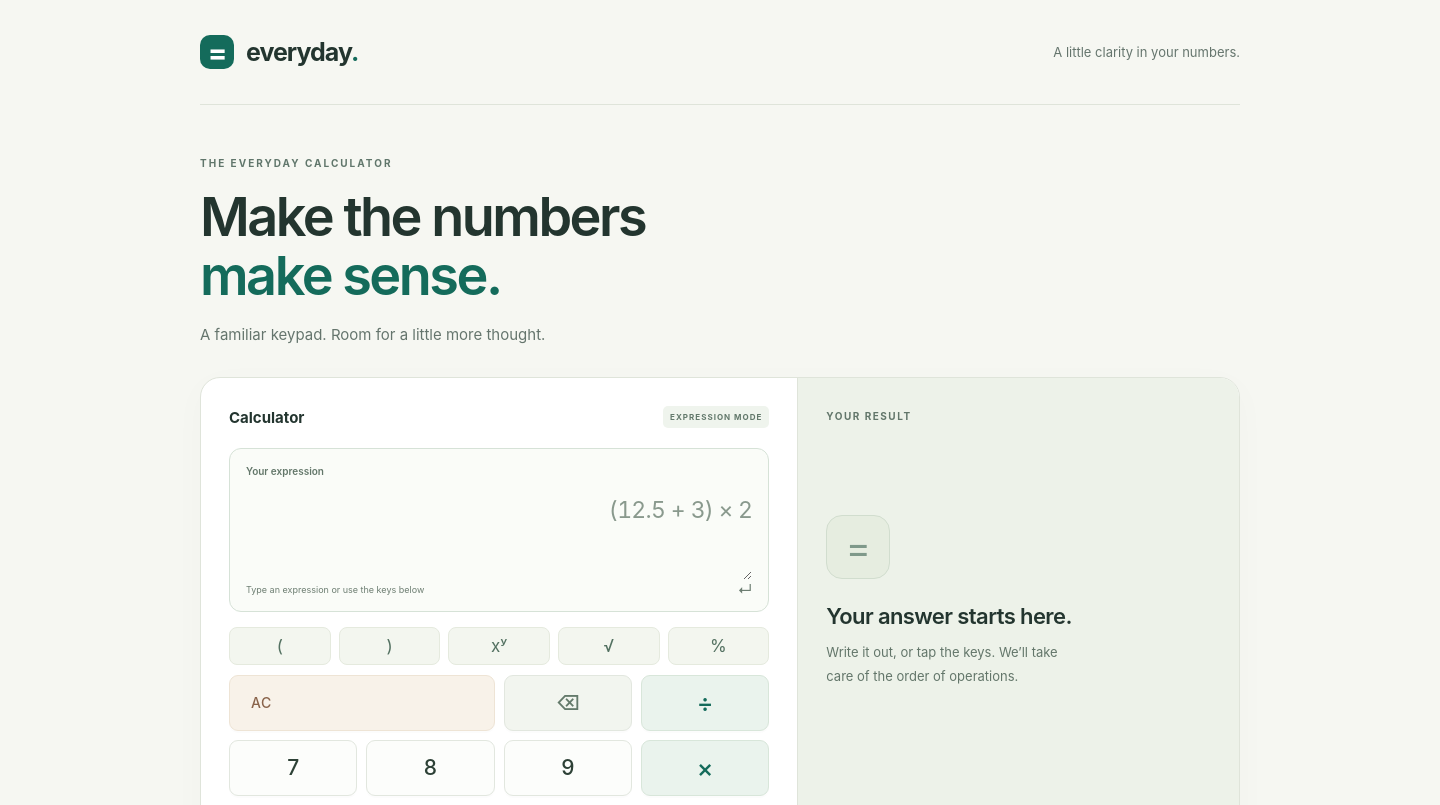
Test: expression calculator › inserts at the caret and replaces a selection
Type "12+3" into the text box labelled "Your expression" at (499, 529), box x1=246 y1=477 x2=752 y2=580
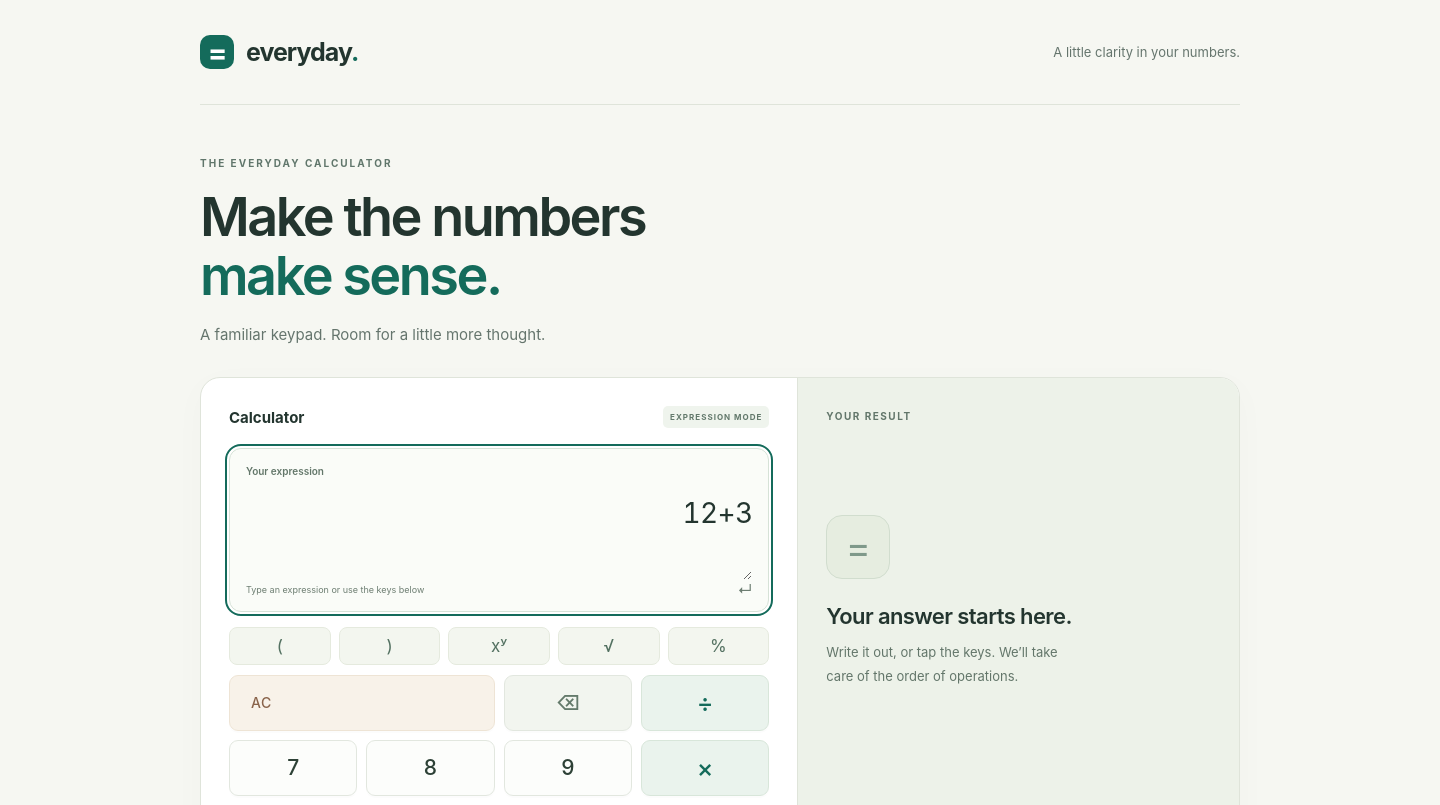
Click the button named "Multiply" at (705, 768), box x1=641 y1=740 x2=769 y2=796
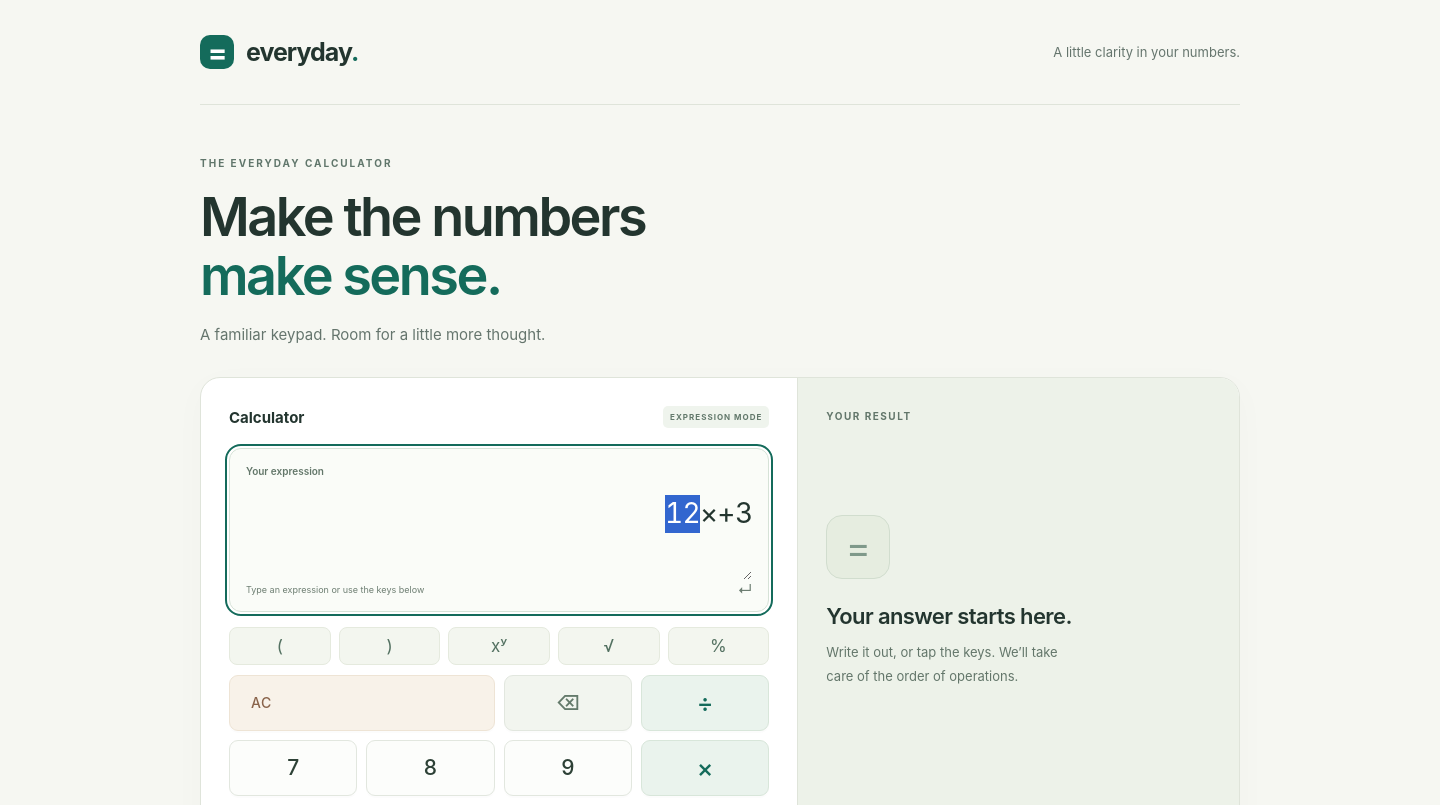
Result: the text box labelled "Your expression" holds "12×+3" at x1=246 y1=477 x2=752 y2=580
Click the button "9" at (568, 768), box x1=504 y1=740 x2=632 y2=796
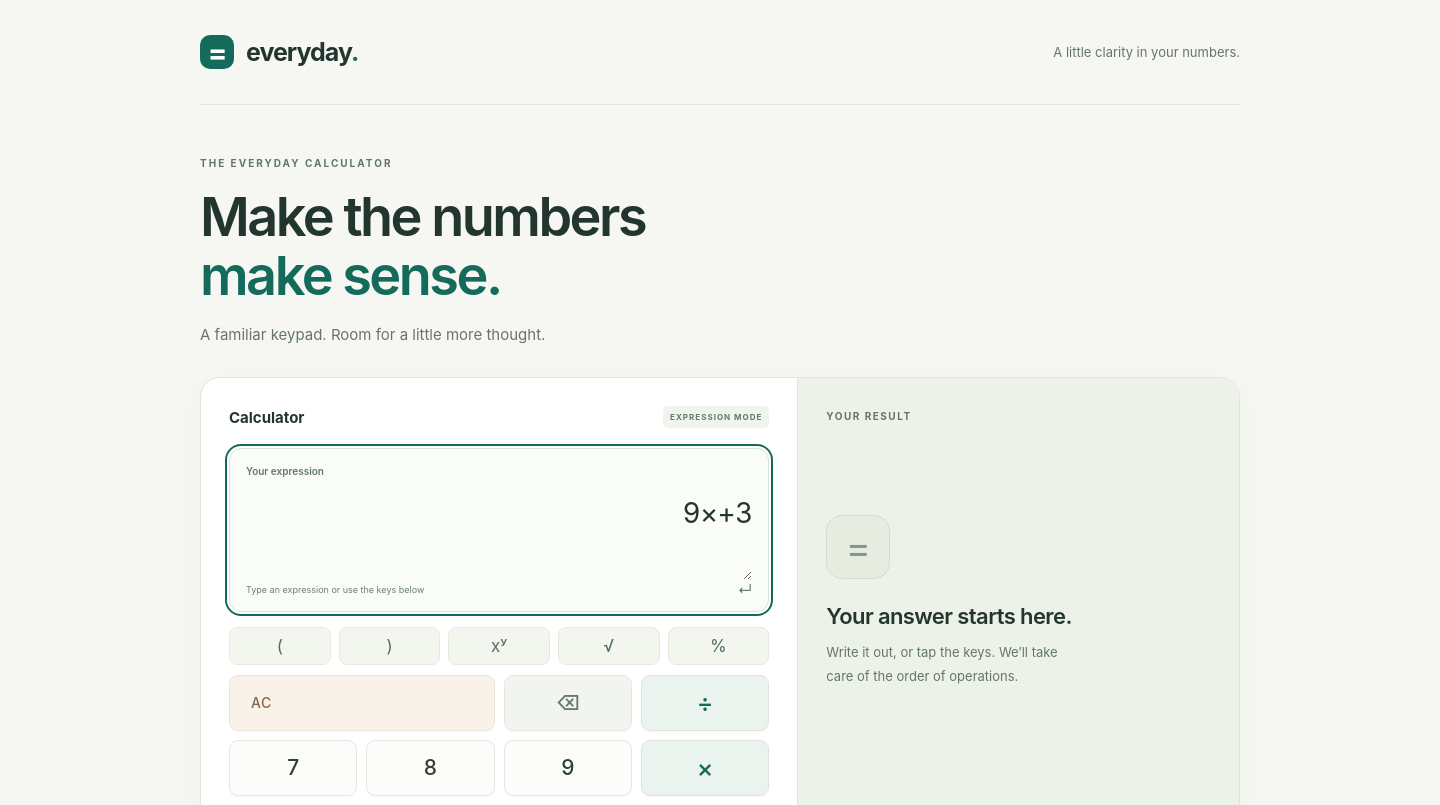
Result: the text box labelled "Your expression" holds "9×+3" at x1=246 y1=477 x2=752 y2=580
